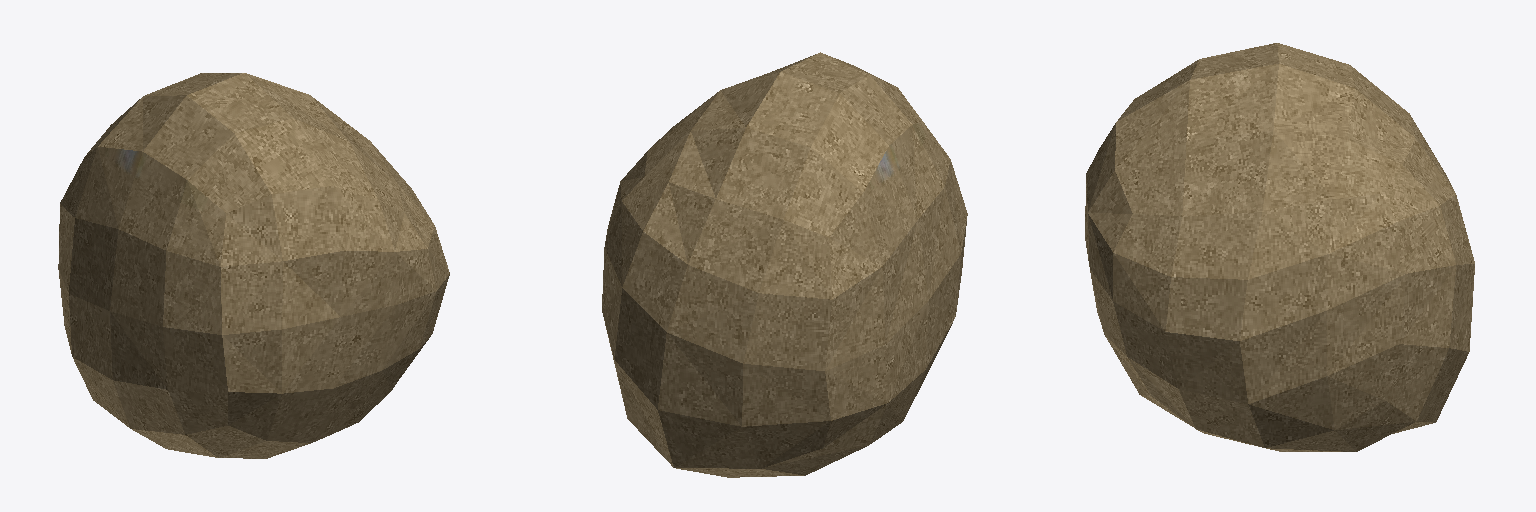
3 views of the same model, side by side, from view 1: azimuth 30°, elevation 25°; view 2: azimuth 150°, elevation 25°; view 3: azimuth 270°, elevation 25° (orthographic).
Visible parts, largest first — view 1: cube1; view 2: cube1; view 3: cube1.
Part boxes in pixels (x1,y1,x2,y2): cube1: (58,73,449,458); cube1: (602,52,967,477); cube1: (1085,43,1474,451).
Size of the model in its own units: 1.64 by 1.91 by 1.81.
1 materials, 1 textured.